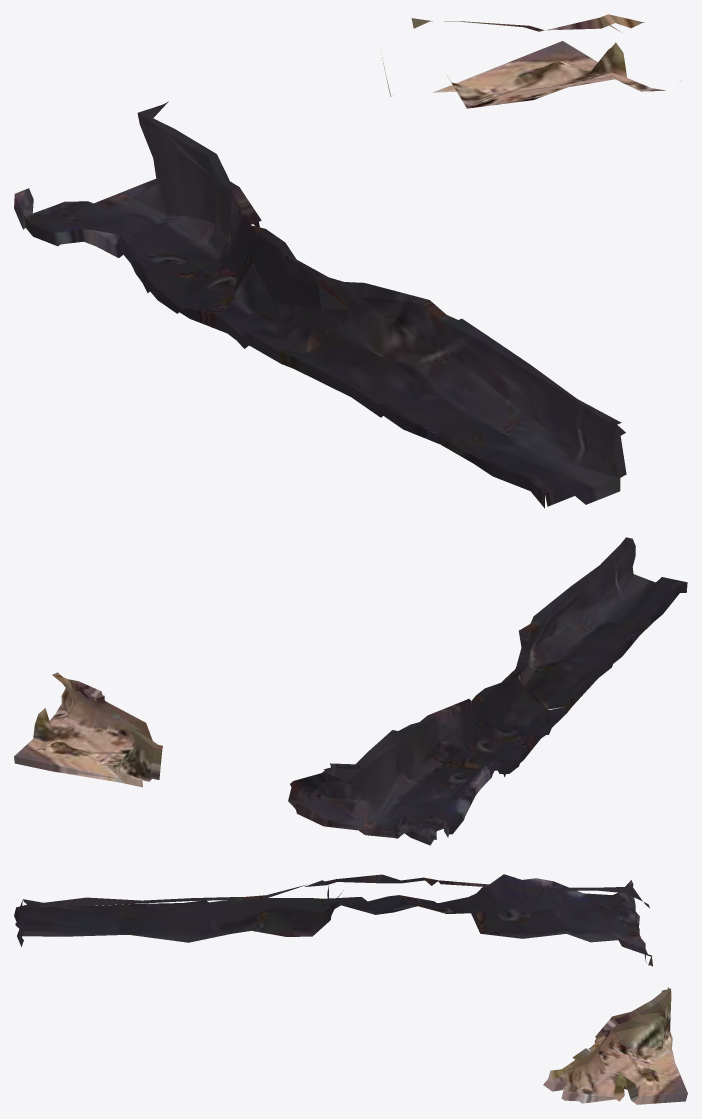
The picture shows the model from 3 angles, top to bottom: view 1: azimuth 30°, elevation 25°; view 2: azimuth 150°, elevation 25°; view 3: azimuth 270°, elevation 25°; orthographic projection. The views are drawn at different scales.
Visible parts, largest first — view 1: Mesh_0; view 2: Mesh_0; view 3: Mesh_0.
Part boxes in pixels (box(x1,y1,x2,y2)): Mesh_0: box(14, 14, 682, 508); Mesh_0: box(14, 537, 687, 845); Mesh_0: box(14, 874, 687, 1104).
Bounding box in the file's own units: 29.97 × 4.56 × 41.33.
Materials: 1 (1 with a texture image).
